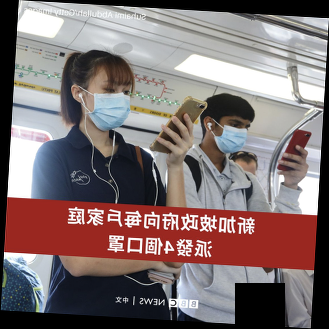with_mask: (83, 77, 131, 132), (216, 118, 250, 154)
